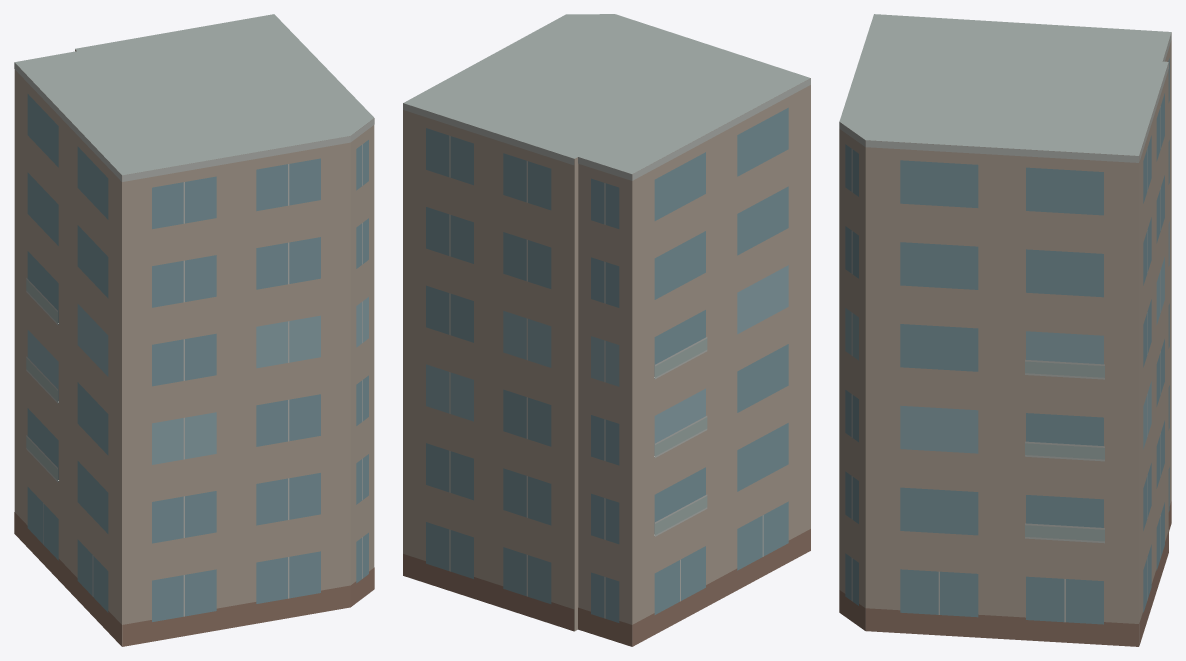
File: survey-upis-32981116.glb
3 renders of one model, left to right at view 1: azimuth 30°, elevation 25°; view 2: azimuth 150°, elevation 25°; view 3: azimuth 270°, elevation 25°, orthographic. The views are drawn at different scales.
Visible parts, largest first — view 1: survey-upis-32981116.tmp; view 2: survey-upis-32981116.tmp; view 3: survey-upis-32981116.tmp.
Boxes of the visible parts, bbox=[...] form: survey-upis-32981116.tmp: bbox=[14, 14, 374, 646]; survey-upis-32981116.tmp: bbox=[403, 14, 810, 646]; survey-upis-32981116.tmp: bbox=[839, 14, 1171, 646].
Bounding box in the file's own units: 10.62 × 17.1 × 10.5.
